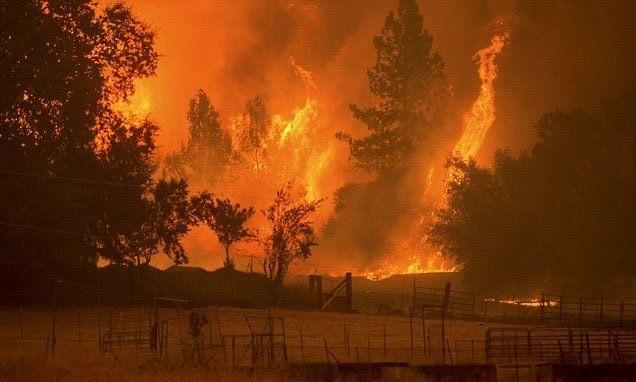fire: (218, 83, 337, 241), (442, 42, 519, 191), (64, 74, 161, 161), (356, 208, 458, 284), (478, 280, 566, 313)
